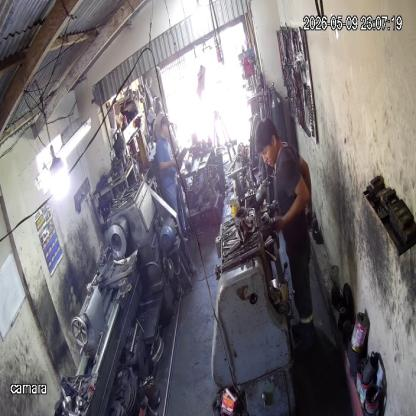sin_lentes: (256, 142, 275, 158)
